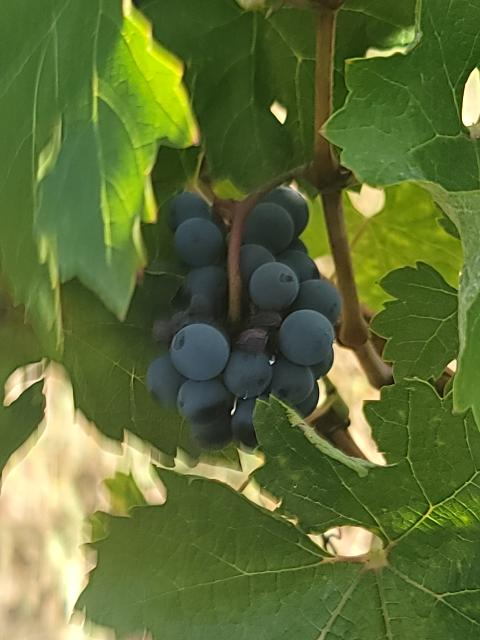grapes: (146, 188, 341, 449)
